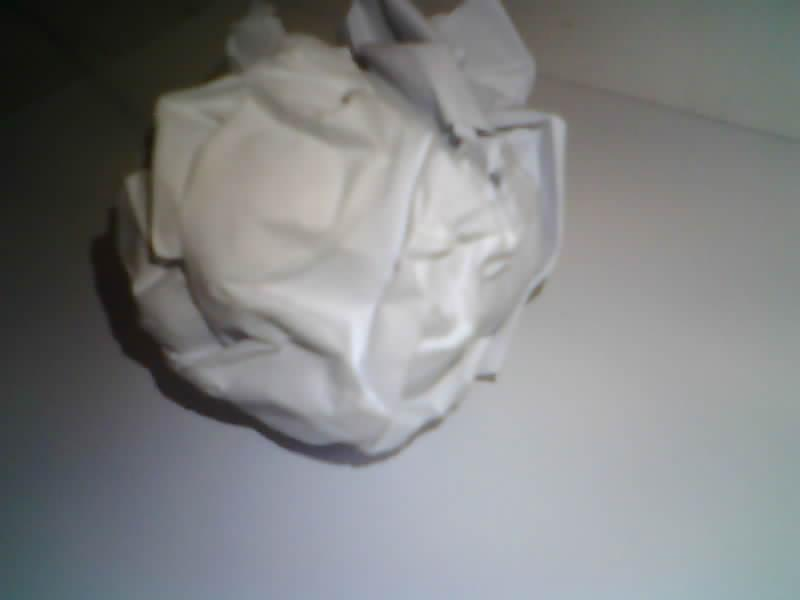biodegradable: (115, 0, 565, 454)
